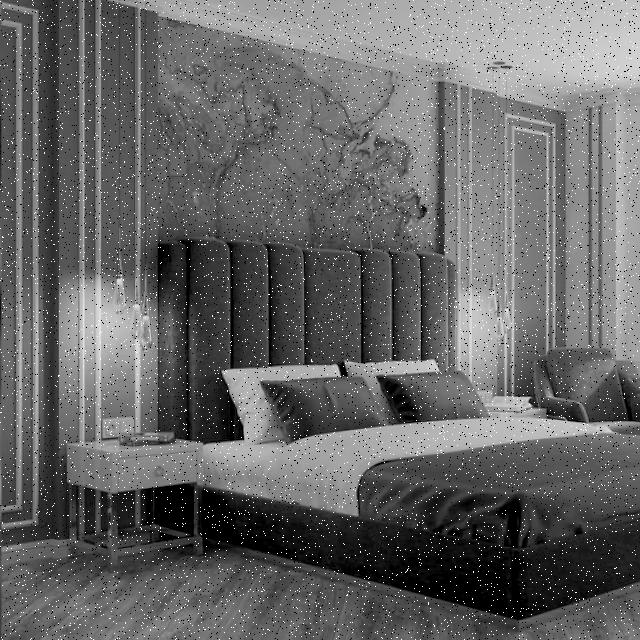bed: (156, 270, 640, 623)
